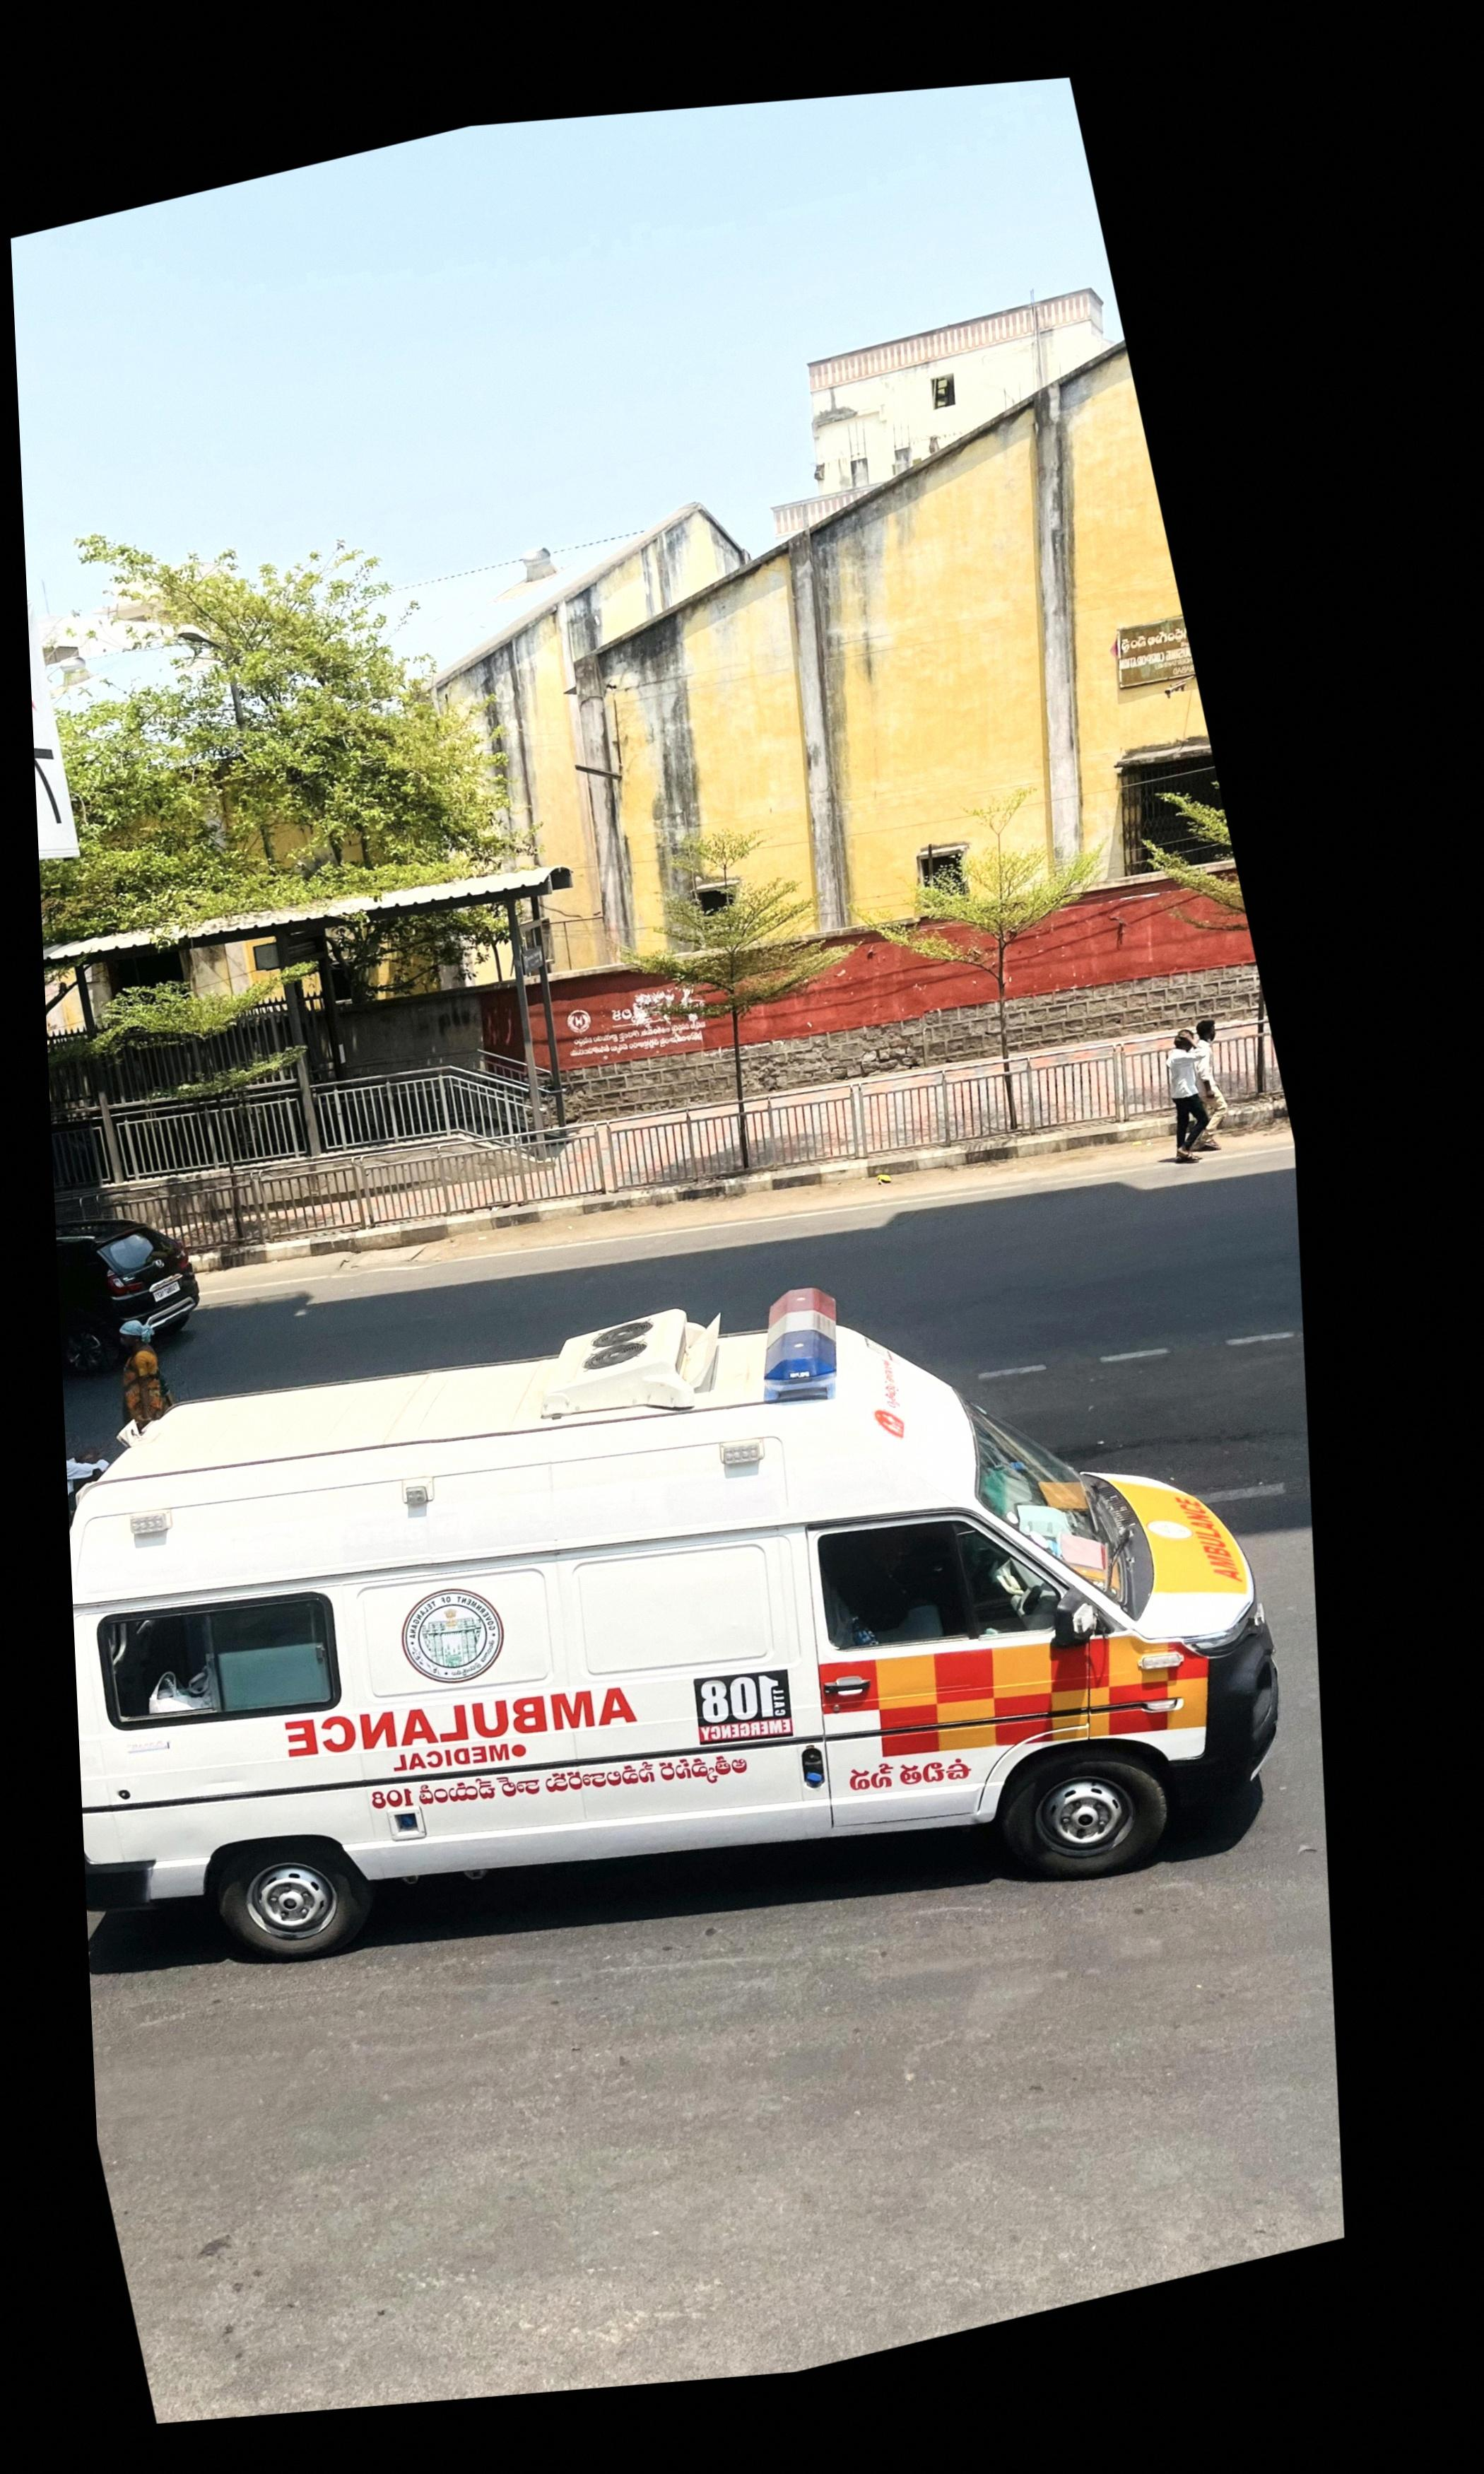ambulance: (71, 1304, 1279, 1969)
